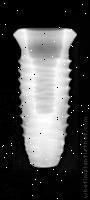Cowellmedi: (13, 26, 85, 171)
